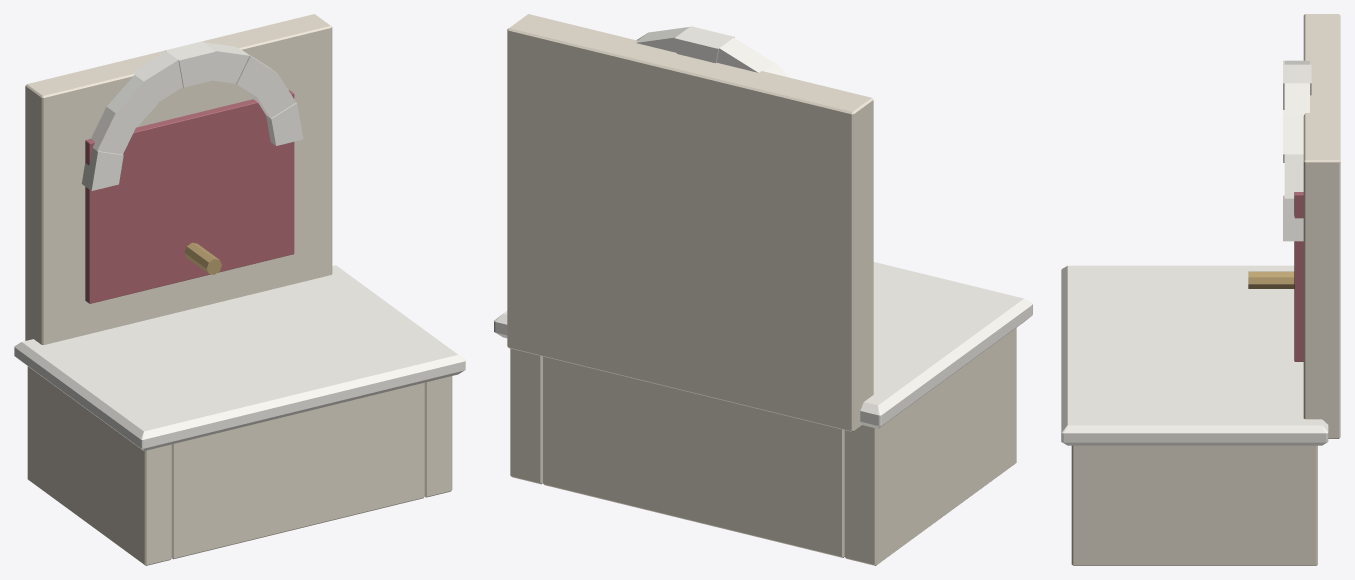
The model's file is roman-bathhouse-and-palaestra-fountain-basin-5ddd0773__37881.glb.
3 renders of one model, left to right at view 1: azimuth 30°, elevation 25°; view 2: azimuth 150°, elevation 25°; view 3: azimuth 270°, elevation 25°, orthographic. The views are drawn at different scales.
Visible parts, largest first — view 1: fountain-basin; view 2: fountain-basin; view 3: fountain-basin.
Boxes of the visible parts, left/top/right/bottom form: fountain-basin: left=14, top=14, right=465, bottom=565; fountain-basin: left=494, top=14, right=1032, bottom=565; fountain-basin: left=1061, top=14, right=1340, bottom=565.
Bounding box in the file's own units: 1.9 × 2.23 × 1.36.
